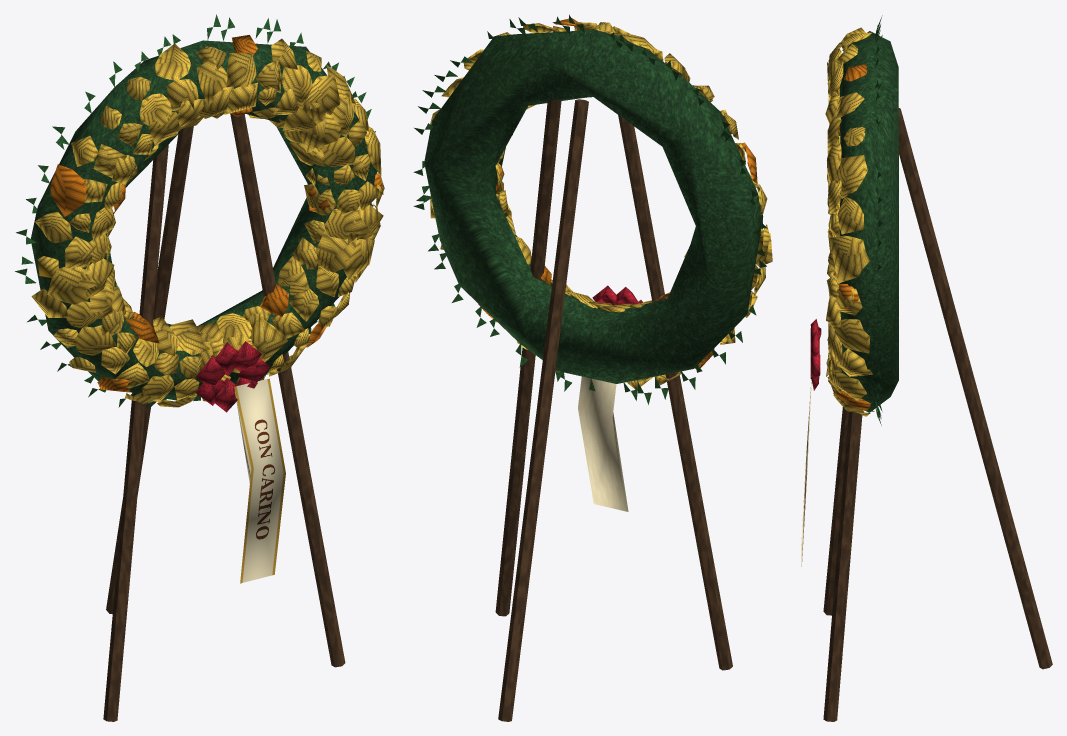
The model's file is corona_amarilla_lod.obj.
The picture shows the model from 3 angles, left to right: view 1: azimuth 30°, elevation 25°; view 2: azimuth 150°, elevation 25°; view 3: azimuth 270°, elevation 25°; orthographic projection. The views are drawn at different scales.
Visible parts, largest first — view 1: Flores_Petalo_Amarillo, Base, Cylinder, Cylinder.001, Liston, Flores_Petalo_Naranja, Cylinder.002, Flores_Petalo_Rojo, Flores_Hoja_Verde_Oscuro; view 2: Base, Cylinder.002, Cylinder, Cylinder.001, Flores_Petalo_Amarillo, Liston, Flores_Hoja_Verde_Oscuro, Flores_Petalo_Naranja, Flores_Petalo_Rojo; view 3: Base, Flores_Petalo_Amarillo, Cylinder.002, Cylinder.001, Cylinder, Flores_Petalo_Naranja, Flores_Petalo_Rojo, Flores_Hoja_Verde_Oscuro.
Boxes of the visible parts, <box> form: Flores_Petalo_Amarillo: <box>31,38,384,407</box>; Base: <box>30,40,377,400</box>; Cylinder: <box>103,145,168,721</box>; Cylinder.001: <box>230,113,345,667</box>; Liston: <box>234,378,285,583</box>; Flores_Petalo_Naranja: <box>50,35,383,392</box>; Cylinder.002: <box>106,126,193,613</box>; Flores_Petalo_Rojo: <box>195,341,270,412</box>; Flores_Hoja_Verde_Oscuro: <box>15,14,375,408</box>; Base: <box>424,30,763,383</box>; Cylinder.002: <box>498,99,588,721</box>; Cylinder: <box>618,115,732,670</box>; Cylinder.001: <box>495,99,561,616</box>; Flores_Petalo_Amarillo: <box>430,22,772,389</box>; Liston: <box>578,376,628,511</box>; Flores_Hoja_Verde_Oscuro: <box>413,14,766,404</box>; Flores_Petalo_Naranja: <box>478,18,757,368</box>; Flores_Petalo_Rojo: <box>592,285,642,305</box>; Base: <box>840,31,898,412</box>; Flores_Petalo_Amarillo: <box>825,27,874,416</box>; Cylinder.002: <box>898,108,1052,669</box>; Cylinder.001: <box>823,409,862,721</box>; Cylinder: <box>823,407,848,615</box>; Flores_Petalo_Naranja: <box>833,64,870,410</box>; Flores_Petalo_Rojo: <box>810,319,821,390</box>; Flores_Hoja_Verde_Oscuro: <box>875,15,882,425</box>.
Bounding box in the file's own units: 0.8254 × 1.43 × 0.5131.
8 materials, 8 textured.
